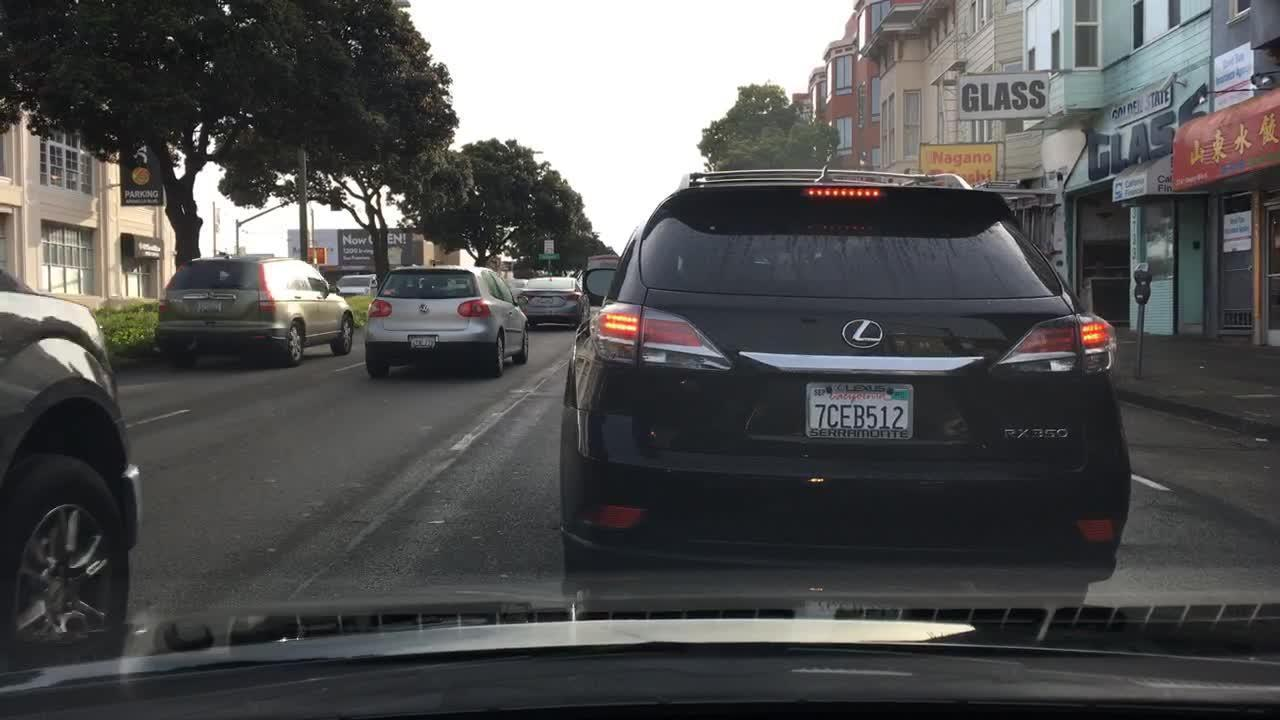Volkswagen: (416, 301, 435, 315)
lexus: (823, 301, 898, 354)
